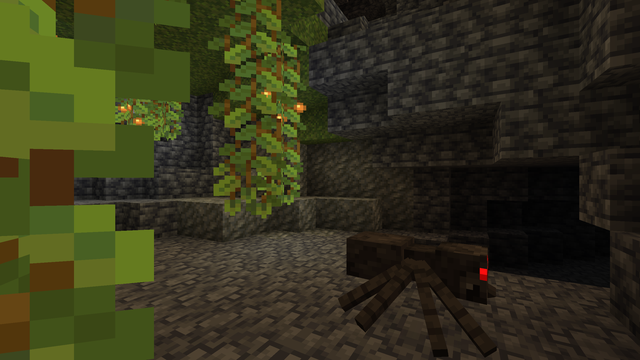araignees: (350, 223, 493, 358)
